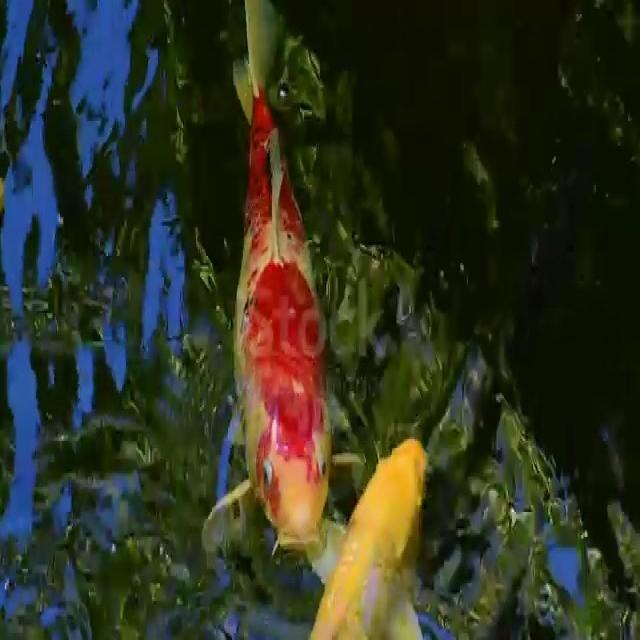fish: (202, 6, 339, 554), (308, 425, 430, 640)
